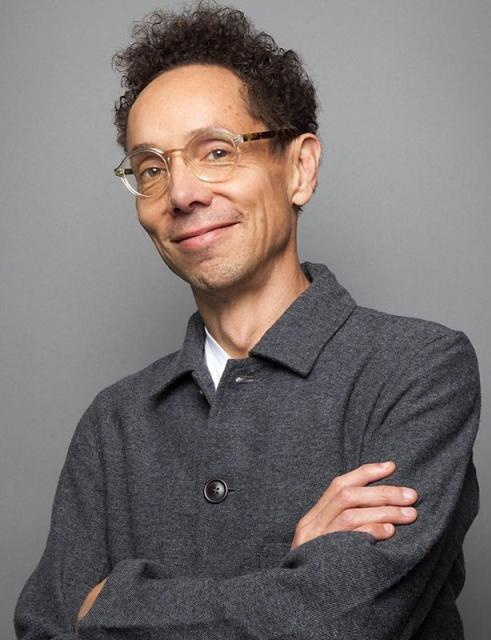no hat: (54, 8, 353, 321)
no vest: (18, 283, 491, 640)
